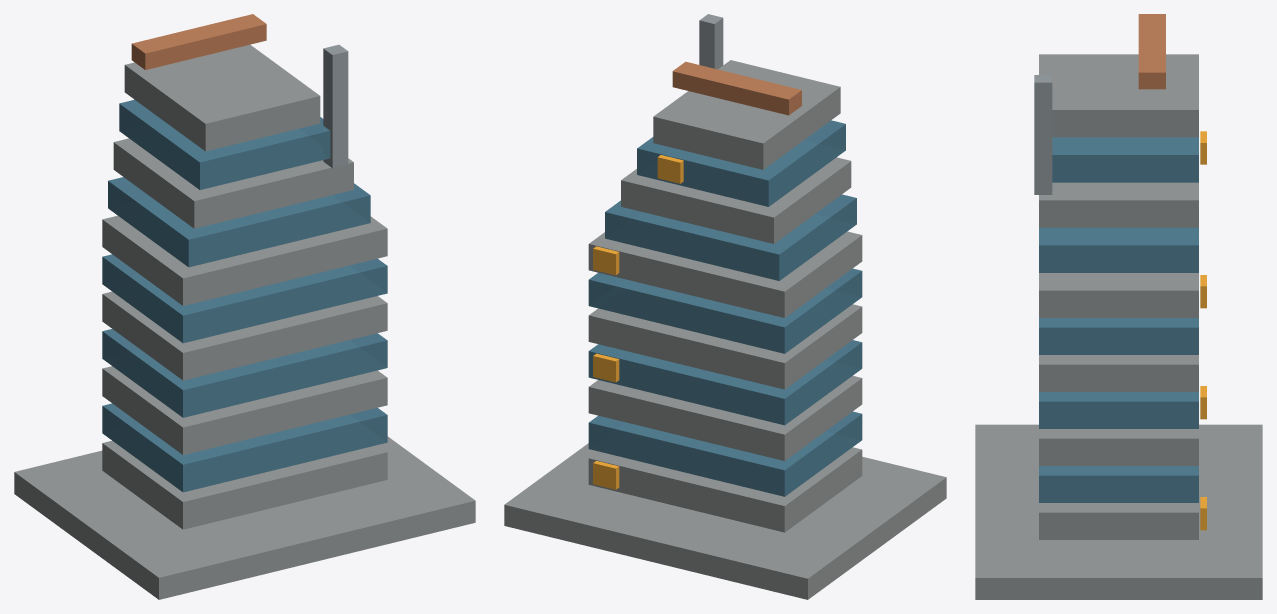
Rendered from voxel-shanghai-ruined-skyscraper.gltf.
3 renders of one model, left to right at view 1: azimuth 30°, elevation 25°; view 2: azimuth 150°, elevation 25°; view 3: azimuth 270°, elevation 25°, orthographic. The views are drawn at different scales.
Bounding box in the file's own units: 2.4 × 3.43 × 1.9.
